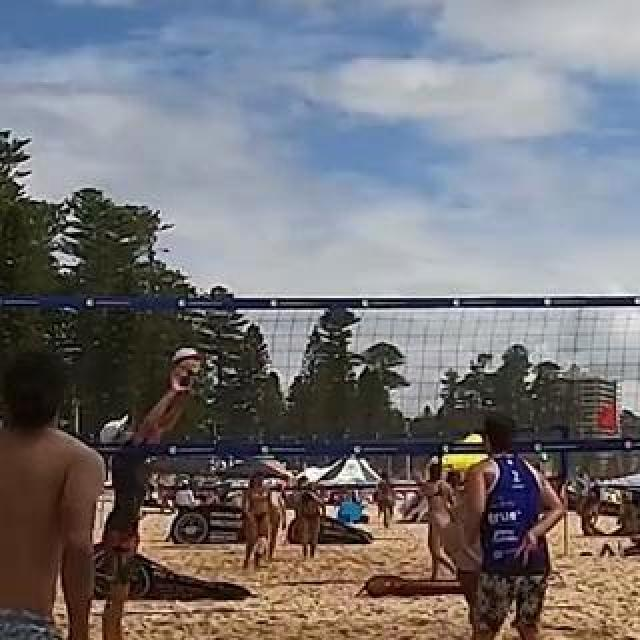volleyball: (174, 348, 200, 374)
